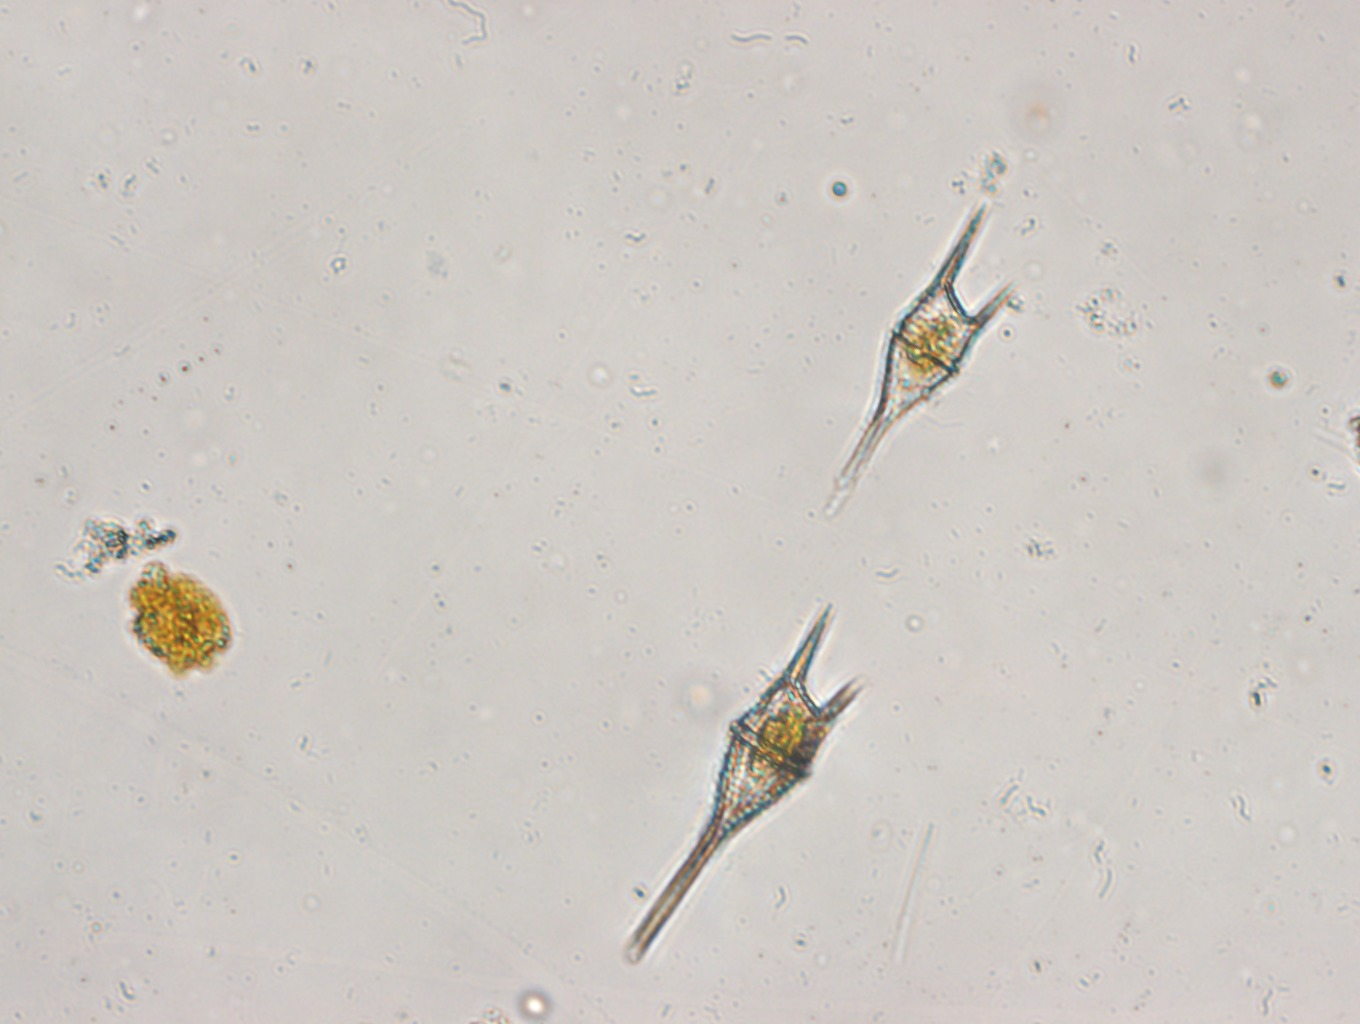ceratium furca: (622, 602, 867, 970), (827, 194, 1025, 509)
